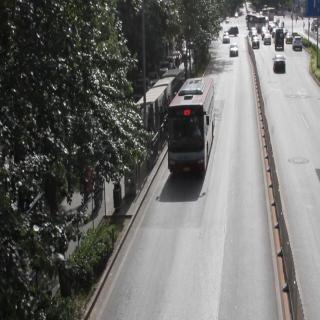BigCar: (166, 70, 220, 188), (245, 11, 266, 31)
Car: (272, 48, 291, 78), (291, 37, 310, 59), (227, 22, 245, 42), (226, 42, 241, 64), (272, 26, 285, 51), (250, 32, 262, 55), (262, 29, 272, 46), (222, 32, 229, 47)
